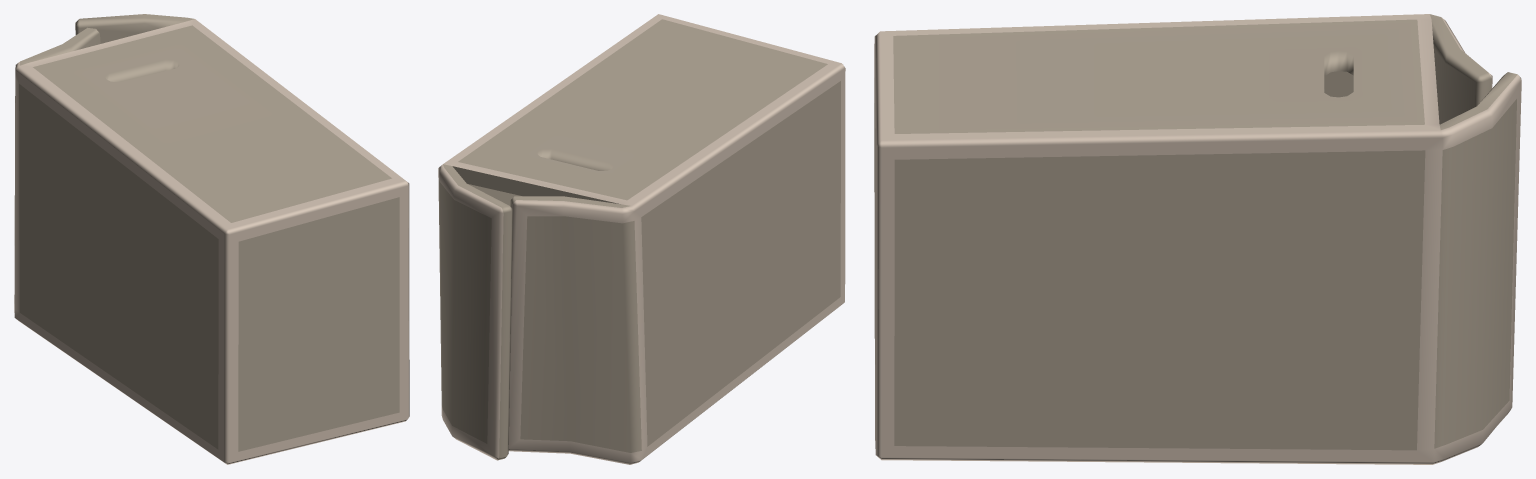
Rendered from BoxH.fbx.
3 views of the same model, side by side, from view 1: azimuth 30°, elevation 25°; view 2: azimuth 150°, elevation 25°; view 3: azimuth 270°, elevation 25° (orthographic). The views are drawn at different scales.
Visible parts, largest first — view 1: BoxH; view 2: BoxH; view 3: BoxH.
Part boxes in pixels (x1=…): BoxH: x1=14, y1=14, x2=409, y2=464; BoxH: x1=438, y1=14, x2=845, y2=464; BoxH: x1=874, y1=14, x2=1521, y2=464.
Bounding box in the file's own units: 123 × 155 × 271.
